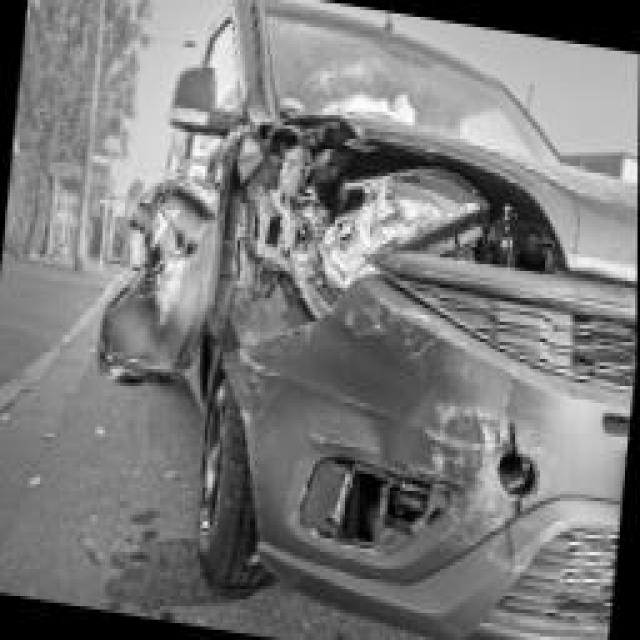Bumper: (222, 261, 546, 623)
Fender: (208, 129, 282, 342)
Light: (282, 132, 536, 271)
